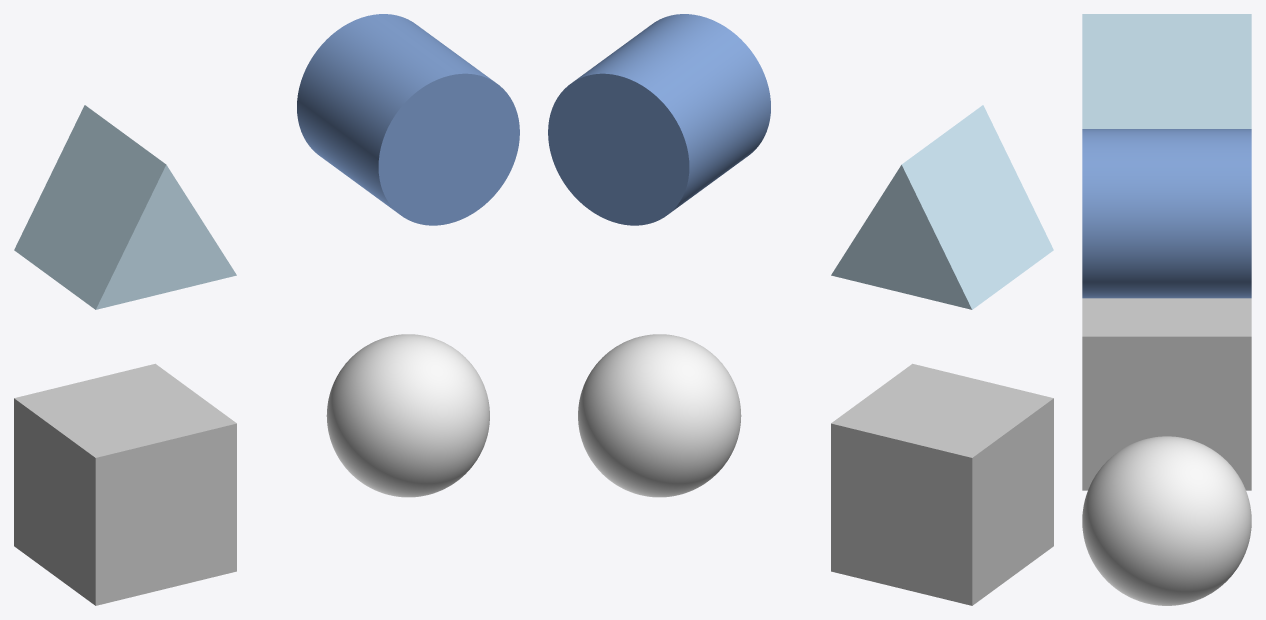
3 renders of one model, left to right at view 1: azimuth 30°, elevation 25°; view 2: azimuth 150°, elevation 25°; view 3: azimuth 270°, elevation 25°, orthographic. The views are drawn at different scales.
Visible parts, largest first — view 1: quadPrism, cylinder, triPrism, sphere; view 2: quadPrism, cylinder, triPrism, sphere; view 3: cylinder, quadPrism, sphere, triPrism.
Boxes of the visible parts, <box> form: quadPrism: <box>14,363,236,605</box>; cylinder: <box>297,14,519,225</box>; triPrism: <box>14,105,236,309</box>; sphere: <box>326,334,489,497</box>; quadPrism: <box>831,363,1053,605</box>; cylinder: <box>548,14,770,225</box>; triPrism: <box>831,105,1053,309</box>; sphere: <box>578,334,741,497</box>; cylinder: <box>1082,129,1251,298</box>; quadPrism: <box>1082,298,1251,490</box>; sphere: <box>1082,436,1251,605</box>; triPrism: <box>1082,14,1251,128</box>.
Size of the model in its own units: 0.3 by 0.3 by 0.1.
